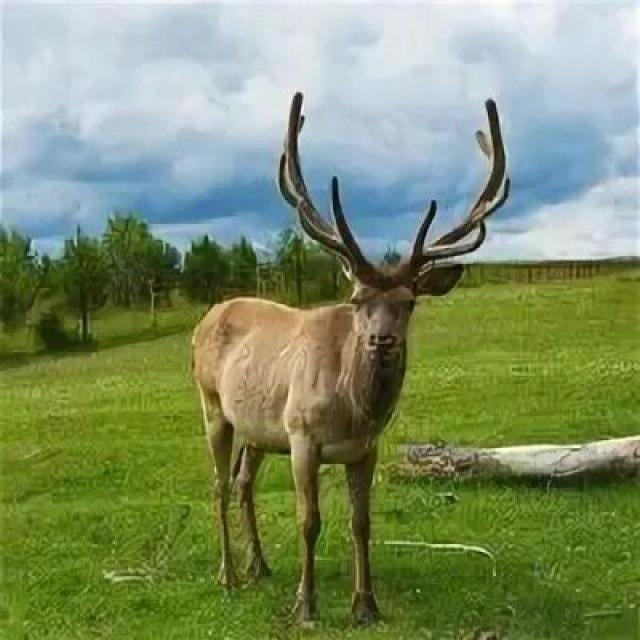deer: (129, 162, 624, 640)
